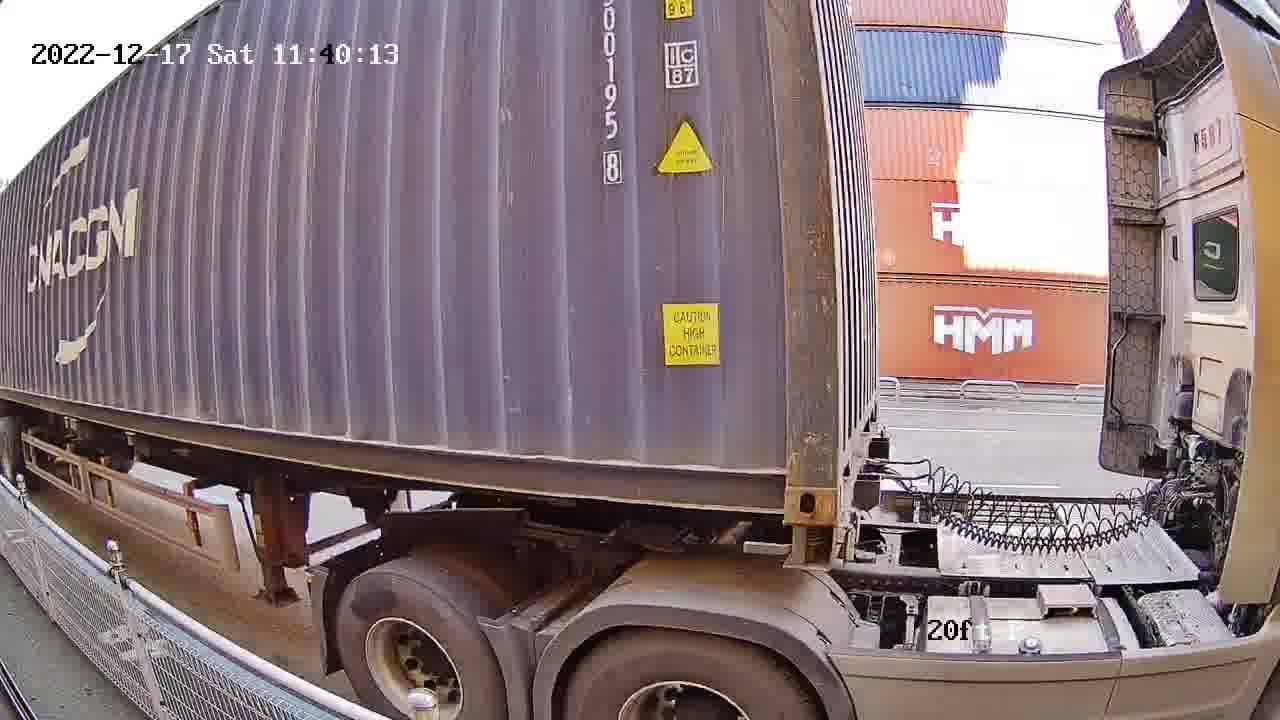Chassis: (836, 423, 885, 570)
Cone: (781, 526, 835, 573)
Hole_R: (738, 436, 840, 526)
Tire: (336, 572, 502, 714), (563, 630, 814, 716)
